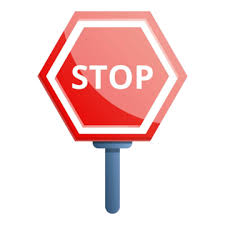stop sign: (38, 11, 188, 142)
